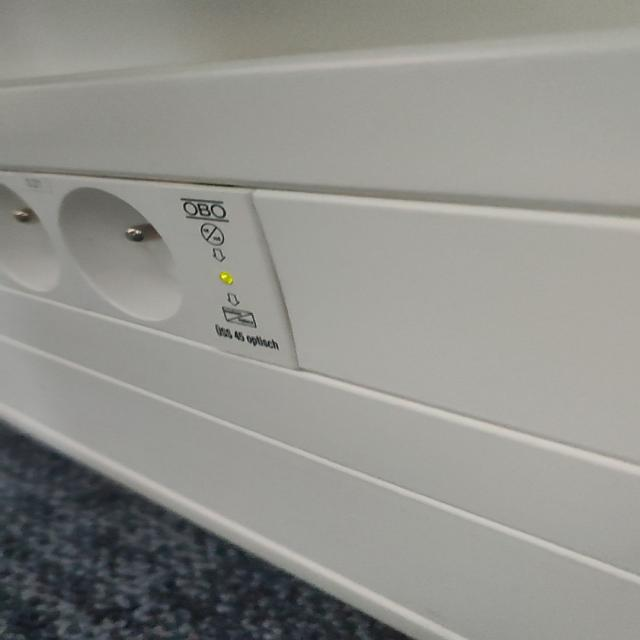house plug: (46, 174, 196, 339)
